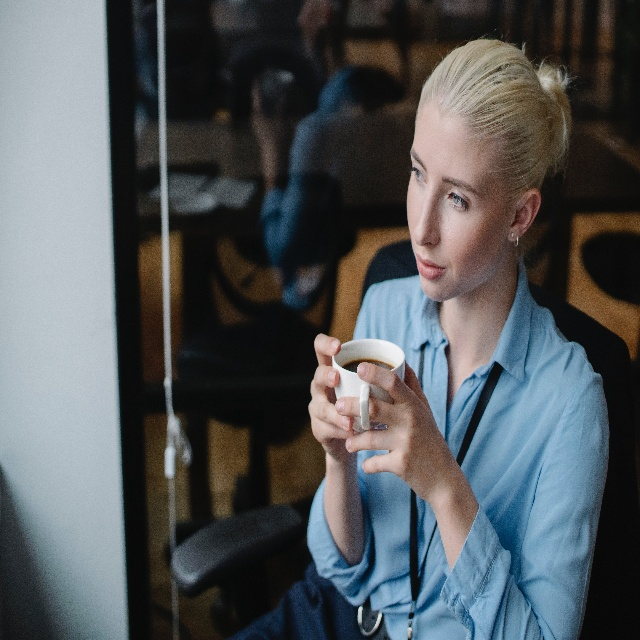Sin_guantes: (333, 348, 441, 510), (306, 329, 356, 464)
